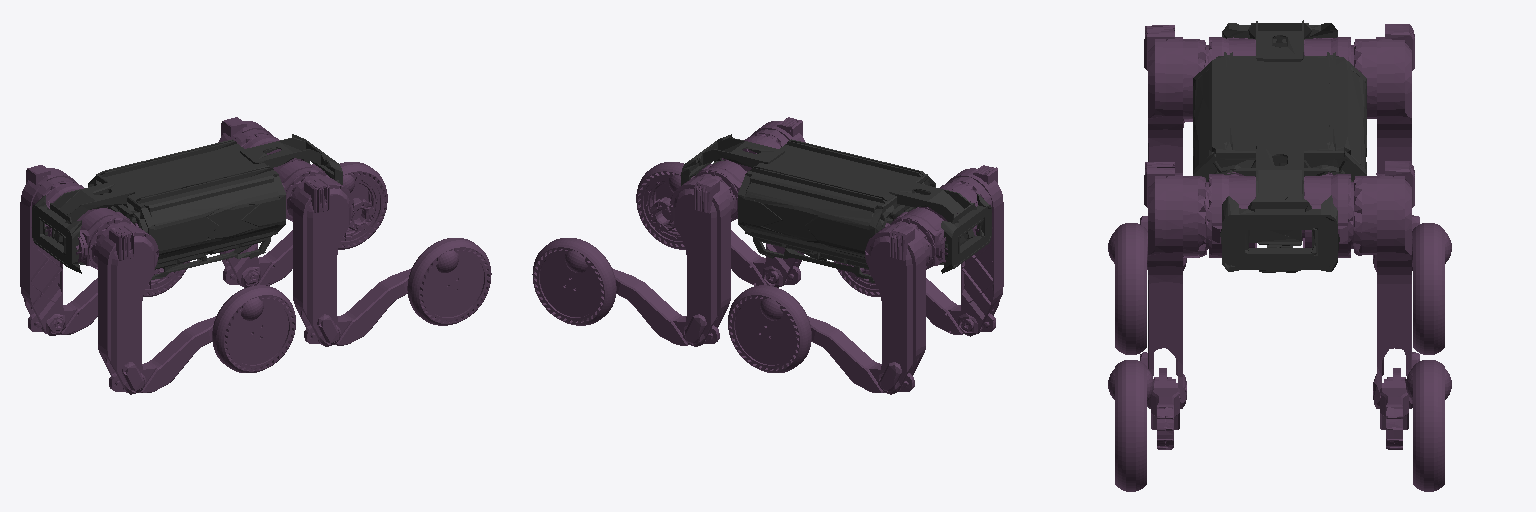
--- Facts derived from the render (not from the file) ---
3 views of the same robot in one strip: view 1: azimuth 30°, elevation 25°; view 2: azimuth 150°, elevation 25°; view 3: azimuth 270°, elevation 25° (orthographic).
Model l4w4 with 19 links and 18 joints (16 revolute, 2 fixed), rooted at base, posed all joints at 0 but 4 set to mid-range because 0 is outside their limits (FR_calf_joint = -1.82, FL_calf_joint = -1.82, RR_calf_joint = -1.82, RL_calf_joint = -1.82).
Links seen in each view (by area): view 1: trunk, FR_thigh, RR_thigh, RR_foot, FR_foot, RL_thigh, FR_calf, RR_calf, FL_foot, FL_calf, FL_thigh, RL_calf (+2 smaller); view 2: trunk, FL_thigh, RL_thigh, RL_foot, FL_foot, RR_thigh, FL_calf, RL_calf, FR_foot, FR_calf, FR_thigh, RR_calf (+2 smaller); view 3: trunk, FR_thigh, FL_thigh, RR_thigh, RL_thigh, FR_foot, FL_foot, RR_foot, RL_foot, FL_hip, FR_hip, FR_calf (+3 smaller).
Boxes of the visible links, bbox=[...] form: trunk: bbox=[32, 134, 342, 280]; FR_thigh: bbox=[287, 174, 353, 346]; RR_thigh: bbox=[91, 222, 158, 394]; RR_foot: bbox=[212, 285, 295, 372]; FR_foot: bbox=[407, 238, 491, 325]; RL_thigh: bbox=[20, 165, 77, 335]; FR_calf: bbox=[304, 268, 411, 345]; RR_calf: bbox=[109, 316, 215, 392]; FL_foot: bbox=[338, 162, 387, 249]; FL_calf: bbox=[223, 197, 373, 286]; FL_thigh: bbox=[218, 117, 272, 287]; RL_calf: bbox=[28, 268, 174, 334]; trunk: bbox=[681, 134, 991, 282]; FL_thigh: bbox=[670, 174, 736, 346]; RL_thigh: bbox=[865, 221, 931, 394]; RL_foot: bbox=[728, 285, 811, 372]; FL_foot: bbox=[532, 238, 616, 325]; RR_thigh: bbox=[946, 165, 1003, 336]; FL_calf: bbox=[612, 268, 719, 345]; RL_calf: bbox=[808, 316, 914, 392]; FR_foot: bbox=[636, 162, 685, 249]; FR_calf: bbox=[650, 197, 800, 286]; FR_thigh: bbox=[751, 117, 805, 287]; RR_calf: bbox=[845, 264, 995, 334]; trunk: bbox=[1193, 20, 1366, 272]; FR_thigh: bbox=[1140, 162, 1208, 408]; FL_thigh: bbox=[1351, 161, 1419, 408]; RR_thigh: bbox=[1140, 25, 1208, 270]; RL_thigh: bbox=[1351, 24, 1419, 271]; FR_foot: bbox=[1108, 360, 1153, 491]; FL_foot: bbox=[1406, 360, 1451, 491]; RR_foot: bbox=[1108, 223, 1147, 354]; RL_foot: bbox=[1412, 223, 1451, 354]; FL_hip: bbox=[1302, 172, 1352, 257]; FR_hip: bbox=[1207, 172, 1256, 257]; FR_calf: bbox=[1151, 368, 1186, 449].
Size in the robot's own frame: 0.9929 by 0.5348 by 0.422 metres.
Meshes: 8 distinct files referenced, 17 mesh visuals loaded (8 binary STL).

The robot description file, URDF, robot "l4w4":
<?xml version="1.0" encoding="utf-8"?>
<!-- This URDF was automatically created by SolidWorks to URDF Exporter! Originally created by Stephen Brawner ([email redacted])
     Commit Version: 1.6.0-4-g7f85cfe  Build Version: 1.6.7995.38578
     For more information, please see http://wiki.ros.org/sw_urdf_exporter -->
<robot name="l4w4">
  <material name="grey">
    <color rgba="0.4 0.3 0.4 1"/>
  </material>

  <link name="base">
    <visual>
      <origin rpy="0 0 0" xyz="0 0 0"/>
      <geometry>
        <box size="0.001 0.001 0.001"/>
      </geometry>
    </visual>
  </link>
  <joint name="floating_base" type="fixed">
    <origin rpy="0 0 0" xyz="0 0 0"/>
    <parent link="base"/>
    <child link="trunk"/>
  </joint>


  <link name="trunk">
    <inertial>
      <origin xyz="0.01621 -0.00243 -0.00451" rpy="0 0 0" />
      <mass value="18.826" />
      <inertia ixx="0.1273193" ixy="0.000046" ixz="0.006097" iyy="0.4311307" iyz="0.0004302" izz="0.4800192" />
    </inertial>
    <visual>
      <origin xyz="0 0 0" rpy="0 0 0" />
      <geometry>
        <mesh filename="package://l4w4_description/meshes/trunk.STL" />
      </geometry>
      <material name="">
        <color rgba="0.25 0.25 0.25 1" />
      </material>
    </visual>
    <collision>
      <origin xyz="0 0 0" rpy="0 0 0" />
      <geometry>
        <box size="0.7 0.19 0.178" />
      </geometry>
    </collision>
    <collision>
      <origin xyz="0 0.064 -0.115" rpy="0 0 0" />
      <geometry>
        <box size="0.33 0.016 0.042" />
      </geometry>
    </collision>
    <collision>
      <origin xyz="0 -0.064 -0.115" rpy="0 0 0" />
      <geometry>
        <box size="0.33 0.016 0.042" />
      </geometry>
    </collision>
  </link>


  <link name="FR_hip">
    <inertial>
      <origin xyz="-0.00192 0.00258 0" rpy="0 0 0" />
      <mass value="1.922" />
      <inertia ixx="0.00263577605" ixy="0.00002528271" ixz="-0.00001346324" iyy="0.00484990458" iyz="0.00000237249" izz="0.00380130670" />
    </inertial>
    <visual>
      <origin xyz="0 0 0" rpy="0 0 0" />
      <geometry>
        <mesh filename="package://l4w4_description/meshes/shoulder_right.STL" />
      </geometry>
      <material name="grey"/>
    </visual>
    <collision>
      <origin xyz="-0.1 0 0" rpy="0 0 0" />
      <geometry>
        <cylinder length="0.001" radius="0.001" />
      </geometry>
    </collision>
  </link>
  <joint name="FR_hip_joint" type="revolute">
    <origin xyz="0.2515 -0.07 0" rpy="0 0 0" />
    <parent link="trunk" />
    <child link="FR_hip" />
    <axis xyz="1 0 0" />
    <limit lower="-0.5236" upper="0.5236" effort="110" velocity="12.56" />
  </joint>

  <link name="FR_thigh">
    <inertial>
      <origin xyz="-0.006 -0.084 -0.052" rpy="0 0 0" />
      <mass value="3.793" />
      <inertia ixx="0.04333171621" ixy="0.00054809757" ixz="0.001490728" iyy="0.0432097071" iyz="0.004494224" izz="0.007076835" />
    </inertial>
    <visual>
      <origin xyz="0 0 0" rpy="0 0 0" />
      <geometry>
        <mesh filename="package://l4w4_description/meshes/thigh_right.STL" scale = "1 1 1"/>
      </geometry>
      <material name="grey"/>
    </visual>
    <collision>
      <origin xyz="-0.02 -0.1145 -0.090" rpy="0 0.1 0" />
      <geometry>
        <box size="0.1 0.044 0.3" />
      </geometry>
    </collision>
  </link>
  <joint name="FR_thigh_joint" type="revolute">
    <origin xyz="0 0 0" rpy="0 0 0" />
    <parent link="FR_hip" />
    <child link="FR_thigh" />
    <axis xyz="0 1 0" />
    <limit lower="-1.22" upper="3.8397" effort="110" velocity="12.56" />
  </joint>

  <link name="FR_calf">
    <inertial>
      <origin xyz="-0.00059 -0.025 -0.21825" rpy="0 0 0" />
      <mass value="1.943" />
      <inertia ixx= "0.03074" ixy="-0.00003" ixz="-0.00059" iyy= "0.03086" iyz= "0.00389" izz= "0.00252" />
    </inertial>
    <visual>
      <origin xyz="0 0 0" rpy="0 0 0" />
      <geometry>
        <mesh filename="package://l4w4_description/meshes/shank_right.STL" scale = "1 1 1"/>
      </geometry>
      <material name="grey"/>
    </visual>

    <collision>
      <origin xyz="0.00 0.005 -0.12" rpy="0.0 -0.22 0" />
      <geometry>
        <box size="0.04 0.03 0.23"/>
      </geometry>
    </collision>

    <collision>
      <origin xyz="0.00 0.00 -0.3" rpy="1.5708 0 0" />
      <geometry>
        <cylinder length="0.035" radius="0.0405"/>
      </geometry>
    </collision>

  </link>
  <joint name="FR_calf_joint" type="revolute">
    <origin xyz="0 -0.108 -0.3" rpy="0 0 0" />
    <parent link="FR_thigh" />
    <child link="FR_calf" />
    <axis xyz="0 1 0" />
    <limit lower="-2.75" upper="-0.9" effort="200" velocity="8.3" />
  </joint>

  <link name="FR_foot">
    <inertial>
      <origin xyz="0 -0.05436 0" rpy="0 0 0" />
      <mass value="0.91041" />
      <inertia ixx="0.00319" ixy="0.0" ixz="0.0" iyy="0.00607" iyz="0.0" izz="0.00319" />
    </inertial>
    <visual>
      <origin xyz="0 0 0" rpy="0 0 0" />
      <geometry>
        <mesh filename="package://l4w4_description/meshes/wheel.STL" scale = "1 1 1"/>
      </geometry>
      <material name="grey"/>
    </visual>

    <visual>
      <origin xyz="0.065 -0.0534 0" rpy="0 0 0" />
      <geometry>
        <sphere radius="0.036"/>
      </geometry>
      <material name="grey"/>
    </visual>
    <collision>
      <origin xyz="0 0 0" rpy="0 0 0" />
      <geometry>
        <mesh filename="package://l4w4_description/meshes/wheel.STL" scale = "1 1 1"/>
      </geometry>
    </collision>
  </link>
  <joint name="FR_foot_joint" type="revolute">
    <origin xyz="0 0 -0.3" rpy="0 0 0" />
    <parent link="FR_calf" />
    <child link="FR_foot" />
    <axis xyz="0 1 0" />
    <limit upper="99999" lower="-99999" effort="25" velocity="21.0" />
  </joint>

  <link name="FL_hip">
    <inertial>
      <origin xyz="-0.00192 -0.00258 0" rpy="0 0 0" />
      <mass value="1.922" />
      <inertia ixx="0.00263577605" ixy="-0.00002528271" ixz="-0.00001346324" iyy="0.00484990458" iyz="-0.00000237249" izz="0.00380130670" />
    </inertial>
    <visual>
      <origin xyz="0 0 0" rpy="0 0 0" />
      <geometry>
        <mesh filename="package://l4w4_description/meshes/shoulder_left.STL" scale = "1 1 1"/>
      </geometry>
      <material name="grey"/>
    </visual>
    <collision>
      <origin xyz="-0.1 0 0" rpy="0 0 0" />
      <geometry>
        <cylinder length="0.001" radius="0.001" />
      </geometry>
    </collision>
  </link>
  <joint name="FL_hip_joint" type="revolute">
    <origin xyz="0.2515 0.07 0" rpy="0 0 0" />
    <parent link="trunk" />
    <child link="FL_hip" />
    <axis xyz="1 0 0" />
    <limit lower="-0.5236" upper="0.5236" effort="110" velocity="12.56" />
  </joint>

  <link name="FL_thigh">
    <inertial>
      <origin xyz="-0.006 0.084 -0.052" rpy="0 0 0" />
      <mass value="3.793" />
      <inertia ixx="0.04333171621" ixy="-0.00054809757" ixz="0.001490728" iyy="0.0432097071" iyz="-0.004494224" izz="0.007076835" />
    </inertial>
    <visual>
      <origin xyz="0 0 0" rpy="0 0 0" />
      <geometry>
        <mesh filename="package://l4w4_description/meshes/thigh_left.STL" scale = "1 1 1"/>
      </geometry>
      <material name="grey"/>
    </visual>
    <collision>
      <origin xyz="-0.02 0.1145 -0.090" rpy="0 0.1 0" />
      <geometry>
        <box size="0.1 0.044 0.3" />
      </geometry>
    </collision>
  </link>
  <joint name="FL_thigh_joint" type="revolute">
    <origin xyz="0 0 0" rpy="0 0 0" />
    <parent link="FL_hip" />
    <child link="FL_thigh" />
    <axis xyz="0 1 0" />
    <limit lower="-1.22" upper="3.8397" effort="110" velocity="12.56" />
  </joint>

  <link name="FL_calf">
    <inertial>
      <origin xyz="-0.00059 0.025 -0.21825" rpy="0 0 0" />
      <mass value="1.943" />
      <inertia ixx= "0.03074" ixy= "0.00003" ixz="-0.00059" iyy= "0.03086" iyz="-0.00389" izz= "0.00252" />
    </inertial>
    <visual>
      <origin xyz="0 0 0" rpy="0 0 0" />
      <geometry>
        <mesh filename="package://l4w4_description/meshes/shank_left.STL" scale = "1 1 1"/>
      </geometry>
      <material name="grey"/>
    </visual>
    <collision>
      <origin xyz="0.00 -0.005 -0.12" rpy="0.0 -0.22 0" />
      <geometry>
        <box size="0.04 0.03 0.23"/>
      </geometry>
    </collision>
    <collision>
      <origin xyz="0.00 0.00 -0.3" rpy="1.5708 0 0" />
      <geometry>
        <cylinder length="0.035" radius="0.0405"/>
      </geometry>
    </collision>

  </link>
  <joint name="FL_calf_joint" type="revolute">
    <origin xyz="0 0.108 -0.3" rpy="0 0 0" />
    <parent link="FL_thigh" />
    <child link="FL_calf" />
    <axis xyz="0 1 0" />
    <limit lower="-2.75" upper="-0.9" effort="200" velocity="8.3" />
  </joint>

  <link name="FL_foot">
    <inertial>
      <origin xyz="0 0.05436 0" rpy="0 0 0" />
      <mass value="0.91041" />
      <inertia ixx="0.00319" ixy="0.0" ixz="0.0" iyy="0.00607" iyz="0.0" izz="0.00319" />
    </inertial>
    <visual>
      <origin xyz="0 0 0" rpy="0 0 3.14159265" />
      <geometry>
        <mesh filename="package://l4w4_description/meshes/wheel.STL" scale = "1 1 1"/>
      </geometry>
      <material name="grey"/>
    </visual>

    <visual>
      <origin xyz="0.065 0.0534 0" rpy="0 0 0" />
      <geometry>
        <sphere radius="0.036"/>
      </geometry>
      <material name="grey"/>
    </visual>

    <collision>
      <origin xyz="0 0.0 0" rpy="3.14159265 0 0" />
      <geometry>
        <mesh filename="package://l4w4_description/meshes/wheel.STL" scale = "1 1 1"/>
      </geometry>
    </collision>
  </link>
  <joint name="FL_foot_joint" type="revolute">
    <origin xyz="0 0 -0.3" rpy="0 0 0" />
    <parent link="FL_calf" />
    <child link="FL_foot" />
    <axis xyz="0 1 0" />
    <limit upper="99999" lower="-99999" effort="25" velocity="21.0" />
  </joint>

  <link name="RR_hip">
    <inertial>
      <origin xyz="-0.00192 0.00258 0" rpy="0 0 0" />
      <mass value="1.922" />
      <inertia ixx="0.00263577605" ixy="0.00002528271" ixz="-0.00001346324" iyy="0.00484990458" iyz="0.00000237249" izz="0.00380130670" />
    </inertial>
    <visual>
      <origin xyz="0 0 0" rpy="0 0 0" />
      <geometry>
        <mesh filename="package://l4w4_description/meshes/shoulder_right.STL" scale="1 1 1"/>
      </geometry>
      <material name="grey"/>
    </visual>
    <collision>
      <origin xyz="0 0 0" rpy="0 0 0" />
      <geometry>
        <cylinder length="0.001" radius="0.001" />
      </geometry>
    </collision>
  </link>
  <joint name="RR_hip_joint" type="revolute">
    <origin xyz="-0.2515 -0.07 0" rpy="0 0 0" />
    <parent link="trunk" />
    <child link="RR_hip" />
    <axis xyz="1 0 0" />
    <limit lower="-0.5236" upper="0.5236" effort="110" velocity="12.56" />
  </joint>

  <link name="RR_thigh">
    <inertial>
      <origin xyz="-0.006 -0.084 -0.052" rpy="0 0 0" />
      <mass value="3.793" />
      <inertia ixx="0.04333171621" ixy="0.00054809757" ixz="0.001490728" iyy="0.0432097071" iyz="0.004494224" izz="0.007076835" />
    </inertial>
    <visual>
      <origin xyz="0 0 0" rpy="0 0 0" />
      <geometry>
        <mesh filename="package://l4w4_description/meshes/thigh_right.STL" scale = "1 1 1"/>
      </geometry>
      <material name="grey"/>
    </visual>
    <collision>
      <origin xyz="-0.02 -0.1145 -0.090" rpy="0 0.1 0" />
      <geometry>
        <box size="0.1 0.044 0.3" />
      </geometry>
    </collision>
  </link>
  <joint name="RR_thigh_joint" type="revolute">
    <origin xyz="0 0 0" rpy="0 0 0" />
    <parent link="RR_hip" />
    <child link="RR_thigh" />
    <axis xyz="0 1 0" />
    <limit lower="-1.22" upper="3.8397" effort="110" velocity="12.56" />
  </joint>

  <link name="RR_calf">
    <inertial>
      <origin xyz="-0.00059 -0.025 -0.21825" rpy="0 0 0" />
      <mass value="1.943" />
      <inertia ixx= "0.03074" ixy="-0.00003" ixz="-0.00059" iyy= "0.03086" iyz= "0.00389" izz= "0.00252" />
    </inertial>
    <visual>
      <origin xyz="0 0 0" rpy="0 0 0" />
      <geometry>
        <mesh filename="package://l4w4_description/meshes/shank_right.STL" scale = "1 1 1"/>
      </geometry>
      <material name="grey"/>
    </visual>
    <collision>
      <origin xyz="0.00 0.005 -0.12" rpy="0.0 -0.22 0" />
      <geometry>
        <box size="0.04 0.03 0.23"/>
      </geometry>
    </collision>
    <collision>
      <origin xyz="0.00 0.00 -0.3" rpy="1.5708 0 0" />
      <geometry>
        <cylinder length="0.035" radius="0.0405"/>
      </geometry>
    </collision>

  </link>
  <joint name="RR_calf_joint" type="revolute">
    <origin xyz="0 -0.108 -0.3" rpy="0 0 0" />
    <parent link="RR_thigh" />
    <child link="RR_calf" />
    <axis xyz="0 1 0" />
    <limit lower="-2.75" upper="-0.9" effort="200" velocity="8.3" />
  </joint>

  <link name="RR_foot">
    <inertial>
      <origin xyz="0 -0.05436 0" rpy="0 0 0" />
      <mass value="0.91041" />
      <inertia ixx="0.00319" ixy="0.0" ixz="0.0" iyy="0.00607" iyz="0.0" izz="0.00319" />
    </inertial>
    <visual>
      <origin xyz="0 0 0" rpy="0 0 0" />
      <geometry>
        <mesh filename="package://l4w4_description/meshes/wheel.STL" scale = "1 1 1"/>
      </geometry>
      <material name="grey"/>
    </visual>

    <visual>
      <origin xyz="0.065 -0.0534 0" rpy="0 0 0" />
      <geometry>
        <sphere radius="0.036"/>
      </geometry>
      <material name="grey"/>
    </visual>

    <collision>
      <origin xyz="0 0 0" rpy="0 0 0" />
      <geometry>
        <mesh filename="package://l4w4_description/meshes/wheel.STL" scale = "1 1 1"/>
      </geometry>
    </collision>
  </link>
  <joint name="RR_foot_joint" type="revolute">
    <origin xyz="0 0 -0.3" rpy="0 0 0" />
    <parent link="RR_calf" />
    <child link="RR_foot" />
    <axis xyz="0 1 0" />
    <limit upper="99999" lower="-99999" effort="25" velocity="21" />
  </joint>

  <link name="RL_hip">
    <inertial>
      <origin xyz="-0.00192 -0.00258 0" rpy="0 0 0" />
      <mass value="1.922" />
      <inertia ixx="0.00263577605" ixy="-0.00002528271" ixz="-0.00001346324" iyy="0.00484990458" iyz="-0.00000237249" izz="0.00380130670" />
    </inertial>
    <visual>
      <origin xyz="0 0 0" rpy="0 0 0" />
      <geometry>
        <mesh filename="package://l4w4_description/meshes/shoulder_left.STL" scale = "1 1 1"/>
      </geometry>
      <material name="grey"/>
    </visual>
    <collision>
      <origin xyz="0 0 0" rpy="0 0 0" />
      <geometry>
        <cylinder length="0.001" radius="0.001" />
      </geometry>
    </collision>
  </link>
  <joint name="RL_hip_joint" type="revolute">
    <origin xyz="-0.2515 0.07 0" rpy="0 0 0" />
    <parent link="trunk" />
    <child link="RL_hip" />
    <axis xyz="1 0 0" />
    <limit lower="-0.5236" upper="0.5236" effort="110" velocity="12.56" />
  </joint>

  <link name="RL_thigh">
    <inertial>
      <origin xyz="-0.006 0.084 -0.052" rpy="0 0 0" />
      <mass value="3.793" />
      <inertia ixx="0.04333171621" ixy="-0.00054809757" ixz="0.001490728" iyy="0.0432097071" iyz="-0.004494224" izz="0.007076835" />
    </inertial>
    <visual>
      <origin xyz="0 0 0" rpy="0 0 0" />
      <geometry>
        <mesh filename="package://l4w4_description/meshes/thigh_left.STL" scale = "1 1 1"/>
      </geometry>
      <material name="grey"/>
    </visual>
    <collision>
      <origin xyz="-0.02 0.1145 -0.090" rpy="0 0.1 0" />
      <geometry>
        <box size="0.1 0.044 0.3" />
      </geometry>
    </collision>
  </link>
  <joint name="RL_thigh_joint" type="revolute">
    <origin xyz="0 0 0" rpy="0 0 0" />
    <parent link="RL_hip" />
    <child link="RL_thigh" />
    <axis xyz="0 1 0" />
    <limit lower="-1.22" upper="3.8397" effort="110" velocity="12.56" />
  </joint>

  <link name="RL_calf">
    <inertial>
      <origin xyz="-0.00059 0.025 -0.21825" rpy="0 0 0" />
      <mass value="1.943" />
      <inertia ixx= "0.03074" ixy= "0.00003" ixz="-0.00059" iyy= "0.03086" iyz="-0.00389" izz= "0.00252" />
    </inertial>
    <visual>
      <origin xyz="0 0 0" rpy="0 0 0" />
      <geometry>
        <mesh filename="package://l4w4_description/meshes/shank_left.STL" scale = "1 1 1"/>
      </geometry>
      <material name="grey"/>
    </visual>
    <collision>
      <origin xyz="0.00 -0.005 -0.12" rpy="0.0 -0.22 0" />
      <geometry>
        <box size="0.04 0.03 0.23"/>
      </geometry>
    </collision>
    <collision>
      <origin xyz="0.00 0.00 -0.3" rpy="1.5708 0 0" />
      <geometry>
        <cylinder length="0.035" radius="0.0405"/>
      </geometry>
    </collision>

  </link>
  <joint name="RL_calf_joint" type="revolute">
    <origin xyz="0 0.108 -0.3" rpy="0 0 0" />
    <parent link="RL_thigh" />
    <child link="RL_calf" />
    <axis xyz="0 1 0" />
    <limit lower="-2.75" upper="-0.9" effort="200" velocity="8.3" />
  </joint>

  <link name="RL_foot">
    <inertial>
      <origin xyz="0 0.05436 0" rpy="0 0 0" />
      <mass value="0.91041" />
      <inertia ixx="0.00319" ixy="0.0" ixz="0.0" iyy="0.00607" iyz="0.0" izz="0.00319" />
    </inertial>
    <visual>
      <origin xyz="0 0 0" rpy="0 0 3.14159265" />
      <geometry>
        <mesh filename="package://l4w4_description/meshes/wheel.STL" scale = "1 1 1"/>
      </geometry>
      <material name="grey"/>
    </visual>

    <visual>
      <origin xyz="0.065 0.0534 0" rpy="0 0 3.14159265" />
      <geometry>
        <sphere radius="0.036"/>
      </geometry>
      <material name="grey"/>
    </visual>


    <collision>
      <origin xyz="0 0.0 0" rpy="0 0 3.14159265" />
      <geometry>
        <mesh filename="package://l4w4_description/meshes/wheel.STL" scale = "1 1 1"/>
      </geometry>
    </collision>

  </link>
  <joint name="RL_foot_joint" type="revolute">
    <origin xyz="0 0 -0.3" rpy="0 0 0" />
    <parent link="RL_calf" />
    <child link="RL_foot" />
    <axis xyz="0 1 0" />
    <limit upper="99999" lower="-99999" effort="25" velocity="21.0" />
  </joint>

  <link name="imu_link">
    <inertial>
      <origin xyz="0 0 0" rpy="0 0 0" />
      <mass value="0" />
      <inertia ixx="0" ixy="0" ixz="0" iyy="0" iyz="0" izz="0" />
    </inertial>
  </link>
  <joint name="imu_joint" type="fixed">
    <origin xyz="0 0 0" rpy="0 0 0" />
    <parent link="base" />
    <child link="imu_link" />
  </joint>


  <transmission name="FR_hip_tran">
    <type>transmission_interface/SimpleTransmission</type>
    <joint name="FR_hip_joint">
      <hardwareInterface>hardware_interface/EffortJointInterface</hardwareInterface>
    </joint>
    <actuator name="FR_hip_motor">
      <hardwareInterface>hardware_interface/EffortJointInterface</hardwareInterface>
      <mechanicalReduction>1</mechanicalReduction>
    </actuator>
  </transmission>
  <transmission name="FR_thigh_tran">
    <type>transmission_interface/SimpleTransmission</type>
    <joint name="FR_thigh_joint">
      <hardwareInterface>hardware_interface/EffortJointInterface</hardwareInterface>
    </joint>
    <actuator name="FR_thigh_motor">
      <hardwareInterface>hardware_interface/EffortJointInterface</hardwareInterface>
      <mechanicalReduction>1</mechanicalReduction>
    </actuator>
  </transmission>
  <transmission name="FR_calf_tran">
    <type>transmission_interface/SimpleTransmission</type>
    <joint name="FR_calf_joint">
      <hardwareInterface>hardware_interface/EffortJointInterface</hardwareInterface>
    </joint>
    <actuator name="FR_calf_motor">
      <hardwareInterface>hardware_interface/EffortJointInterface</hardwareInterface>
      <mechanicalReduction>1</mechanicalReduction>
    </actuator>
  </transmission>
  <transmission name="FR_foot_tran">
    <type>transmission_interface/SimpleTransmission</type>
    <joint name="FR_foot_joint">
      <hardwareInterface>hardware_interface/EffortJointInterface</hardwareInterface>
    </joint>
    <actuator name="FR_foot_motor">
      <hardwareInterface>hardware_interface/EffortJointInterface</hardwareInterface>
      <mechanicalReduction>1</mechanicalReduction>
    </actuator>
  </transmission>

  <transmission name="FL_hip_tran">
    <type>transmission_interface/SimpleTransmission</type>
    <joint name="FL_hip_joint">
      <hardwareInterface>hardware_interface/EffortJointInterface</hardwareInterface>
    </joint>
    <actuator name="FL_hip_motor">
      <hardwareInterface>hardware_interface/EffortJointInterface</hardwareInterface>
      <mechanicalReduction>1</mechanicalReduction>
    </actuator>
  </transmission>
  <transmission name="FL_thigh_tran">
    <type>transmission_interface/SimpleTransmission</type>
    <joint name="FL_thigh_joint">
      <hardwareInterface>hardware_interface/EffortJointInterface</hardwareInterface>
    </joint>
    <actuator name="FL_thigh_motor">
      <hardwareInterface>hardware_interface/EffortJointInterface</hardwareInterface>
      <mechanicalReduction>1</mechanicalReduction>
    </actuator>
  </transmission>
  <transmission name="FL_calf_tran">
    <type>transmission_interface/SimpleTransmission</type>
    <joint name="FL_calf_joint">
      <hardwareInterface>hardware_interface/EffortJointInterface</hardwareInterface>
    </joint>
    <actuator name="FL_calf_motor">
      <hardwareInterface>hardware_interface/EffortJointInterface</hardwareInterface>
      <mechanicalReduction>1</mechanicalReduction>
    </actuator>
  </transmission>
  <transmission name="FL_foot_tran">
    <type>transmission_interface/SimpleTransmission</type>
    <joint name="FL_foot_joint">
      <hardwareInterface>hardware_interface/EffortJointInterface</hardwareInterface>
    </joint>
    <actuator name="FL_foot_motor">
      <hardwareInterface>hardware_interface/EffortJointInterface</hardwareInterface>
      <mechanicalReduction>1</mechanicalReduction>
    </actuator>
  </transmission>

  <transmission name="RL_hip_tran">
    <type>transmission_interface/SimpleTransmission</type>
    <joint name="RL_hip_joint">
      <hardwareInterface>hardware_interface/EffortJointInterface</hardwareInterface>
    </joint>
    <actuator name="RL_hip_motor">
      <hardwareInterface>hardware_interface/EffortJointInterface</hardwareInterface>
      <mechanicalReduction>1</mechanicalReduction>
    </actuator>
  </transmission>
  <transmission name="RL_thigh_tran">
    <type>transmission_interface/SimpleTransmission</type>
    <joint name="RL_thigh_joint">
      <hardwareInterface>hardware_interface/EffortJointInterface</hardwareInterface>
    </joint>
    <actuator name="RL_thigh_motor">
      <hardwareInterface>hardware_interface/EffortJointInterface</hardwareInterface>
      <mechanicalReduction>1</mechanicalReduction>
    </actuator>
  </transmission>
  <transmission name="RL_calf_tran">
    <type>transmission_interface/SimpleTransmission</type>
    <joint name="RL_calf_joint">
      <hardwareInterface>hardware_interface/EffortJointInterface</hardwareInterface>
    </joint>
    <actuator name="RL_calf_motor">
      <hardwareInterface>hardware_interface/EffortJointInterface</hardwareInterface>
      <mechanicalReduction>1</mechanicalReduction>
    </actuator>
  </transmission>
  <transmission name="RL_foot_tran">
    <type>transmission_interface/SimpleTransmission</type>
    <joint name="RL_foot_joint">
      <hardwareInterface>hardware_interface/EffortJointInterface</hardwareInterface>
    </joint>
    <actuator name="RL_foot_motor">
      <hardwareInterface>hardware_interface/EffortJointInterface</hardwareInterface>
      <mechanicalReduction>1</mechanicalReduction>
    </actuator>
  </transmission>

  <transmission name="RR_hip_tran">
    <type>transmission_interface/SimpleTransmission</type>
    <joint name="RR_hip_joint">
      <hardwareInterface>hardware_interface/EffortJointInterface</hardwareInterface>
    </joint>
    <actuator name="RR_hip_motor">
      <hardwareInterface>hardware_interface/EffortJointInterface</hardwareInterface>
      <mechanicalReduction>1</mechanicalReduction>
    </actuator>
  </transmission>
  <transmission name="RR_thigh_tran">
    <type>transmission_interface/SimpleTransmission</type>
    <joint name="RR_thigh_joint">
      <hardwareInterface>hardware_interface/EffortJointInterface</hardwareInterface>
    </joint>
    <actuator name="RR_thigh_motor">
      <hardwareInterface>hardware_interface/EffortJointInterface</hardwareInterface>
      <mechanicalReduction>1</mechanicalReduction>
    </actuator>
  </transmission>
  <transmission name="RR_calf_tran">
    <type>transmission_interface/SimpleTransmission</type>
    <joint name="RR_calf_joint">
      <hardwareInterface>hardware_interface/EffortJointInterface</hardwareInterface>
    </joint>
    <actuator name="RR_calf_motor">
      <hardwareInterface>hardware_interface/EffortJointInterface</hardwareInterface>
      <mechanicalReduction>1</mechanicalReduction>
    </actuator>
  </transmission>
  <transmission name="RR_foot_tran">
    <type>transmission_interface/SimpleTransmission</type>
    <joint name="RR_foot_joint">
      <hardwareInterface>hardware_interface/EffortJointInterface</hardwareInterface>
    </joint>
    <actuator name="RR_foot_motor">
      <hardwareInterface>hardware_interface/EffortJointInterface</hardwareInterface>
      <mechanicalReduction>1</mechanicalReduction>
    </actuator>
  </transmission>


</robot>
